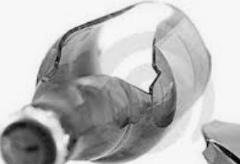glass: (0, 2, 212, 164)
